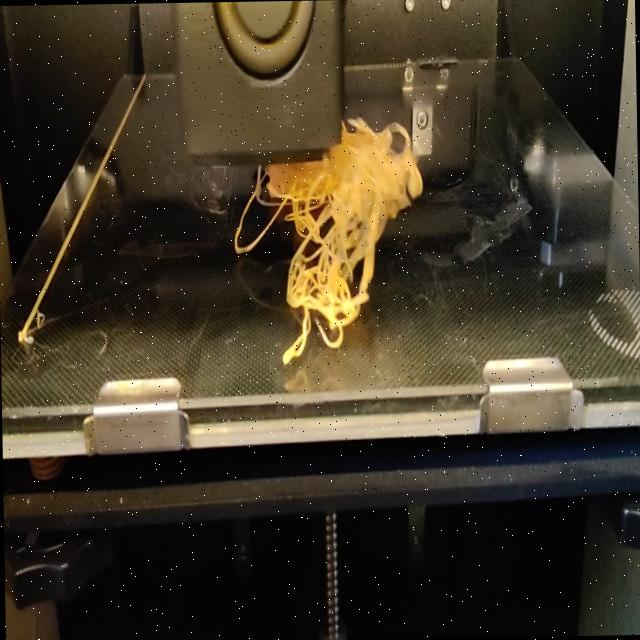spaghetti: (231, 176, 347, 367)
